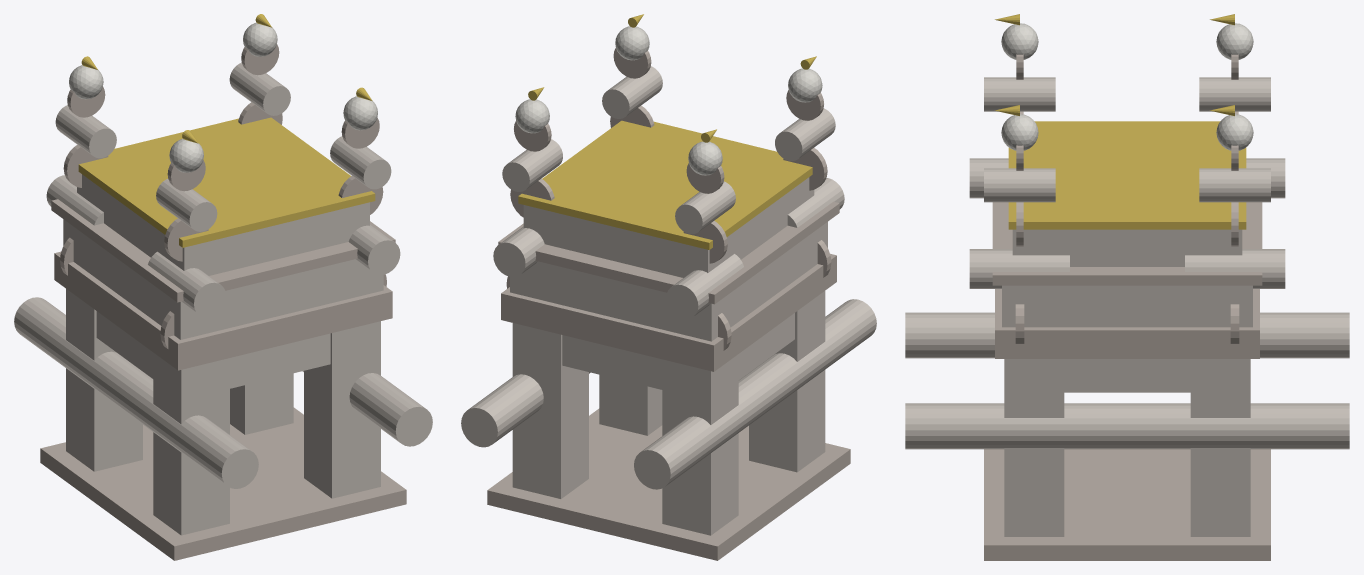
The model's file is charminar.glb.
The picture shows the model from 3 angles, left to right: view 1: azimuth 30°, elevation 25°; view 2: azimuth 150°, elevation 25°; view 3: azimuth 270°, elevation 25°; orthographic projection. The views are drawn at different scales.
Visible parts, largest first — view 1: geometry_13, geometry_0, geometry_10, geometry_4, geometry_9, geometry_2, geometry_12, geometry_1, geometry_22, geometry_11, geometry_14, geometry_38 (+21 smaller); view 2: geometry_13, geometry_0, geometry_10, geometry_3, geometry_9, geometry_1, geometry_12, geometry_2, geometry_14, geometry_11, geometry_22, geometry_30 (+21 smaller); view 3: geometry_0, geometry_13, geometry_10, geometry_30, geometry_38, geometry_3, geometry_4, geometry_9, geometry_12, geometry_11, geometry_8, geometry_14 (+13 smaller).
Boxes of the visible parts, x1,y1,x2,y2 form: geometry_13: [78, 117, 375, 247]; geometry_0: [40, 407, 406, 560]; geometry_10: [63, 219, 383, 339]; geometry_4: [304, 321, 380, 498]; geometry_9: [54, 251, 392, 370]; geometry_2: [153, 353, 229, 535]; geometry_12: [77, 174, 369, 275]; geometry_1: [66, 289, 142, 471]; geometry_22: [116, 371, 258, 488]; geometry_11: [51, 199, 395, 302]; geometry_14: [14, 297, 142, 411]; geometry_38: [302, 371, 432, 446]; geometry_13: [518, 120, 812, 249]; geometry_0: [487, 408, 850, 560]; geometry_10: [510, 222, 827, 341]; geometry_3: [512, 323, 588, 498]; geometry_9: [501, 253, 836, 371]; geometry_1: [662, 354, 738, 535]; geometry_12: [523, 177, 814, 277]; geometry_2: [749, 291, 825, 472]; geometry_14: [634, 372, 776, 489]; geometry_11: [498, 201, 839, 304]; geometry_22: [743, 299, 876, 407]; geometry_30: [461, 372, 590, 447]; geometry_0: [984, 449, 1270, 560]; geometry_13: [1008, 121, 1246, 229]; geometry_10: [1002, 285, 1252, 327]; geometry_30: [1120, 403, 1349, 449]; geometry_38: [905, 403, 1134, 449]; geometry_3: [1190, 359, 1250, 536]; geometry_4: [1004, 359, 1064, 536]; geometry_9: [995, 289, 1259, 358]; geometry_12: [1012, 229, 1242, 266]; geometry_11: [992, 202, 1262, 285]; geometry_8: [1064, 359, 1190, 392]; geometry_14: [1260, 312, 1349, 358].
Size of the model in its own units: 20 by 33.9 by 31.
